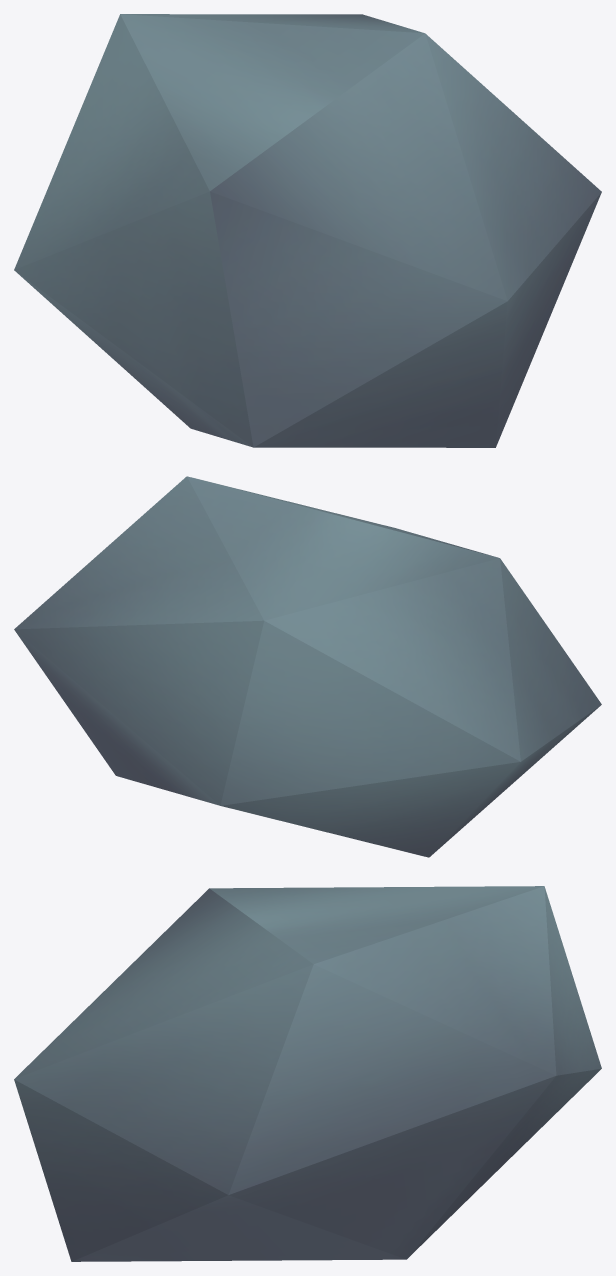
The model's file is pplatonic7_lambert7_0.001_lev2.glb.
3 renders of one model, top to bottom at view 1: azimuth 30°, elevation 25°; view 2: azimuth 150°, elevation 25°; view 3: azimuth 270°, elevation 25°, orthographic. The views are drawn at different scales.
Parts seen in each view (by area): view 1: pplatonic7_lambert7_0.001_lev2; view 2: pplatonic7_lambert7_0.001_lev2; view 3: pplatonic7_lambert7_0.001_lev2.
Part boxes in pixels (x1,y1,x2,y2): pplatonic7_lambert7_0.001_lev2: [14, 14, 601, 447]; pplatonic7_lambert7_0.001_lev2: [14, 476, 601, 857]; pplatonic7_lambert7_0.001_lev2: [14, 886, 601, 1261].
Bounding box in the file's own units: 0.4696 × 0.2926 × 0.4602.
Materials: 1 (1 with a texture image).
